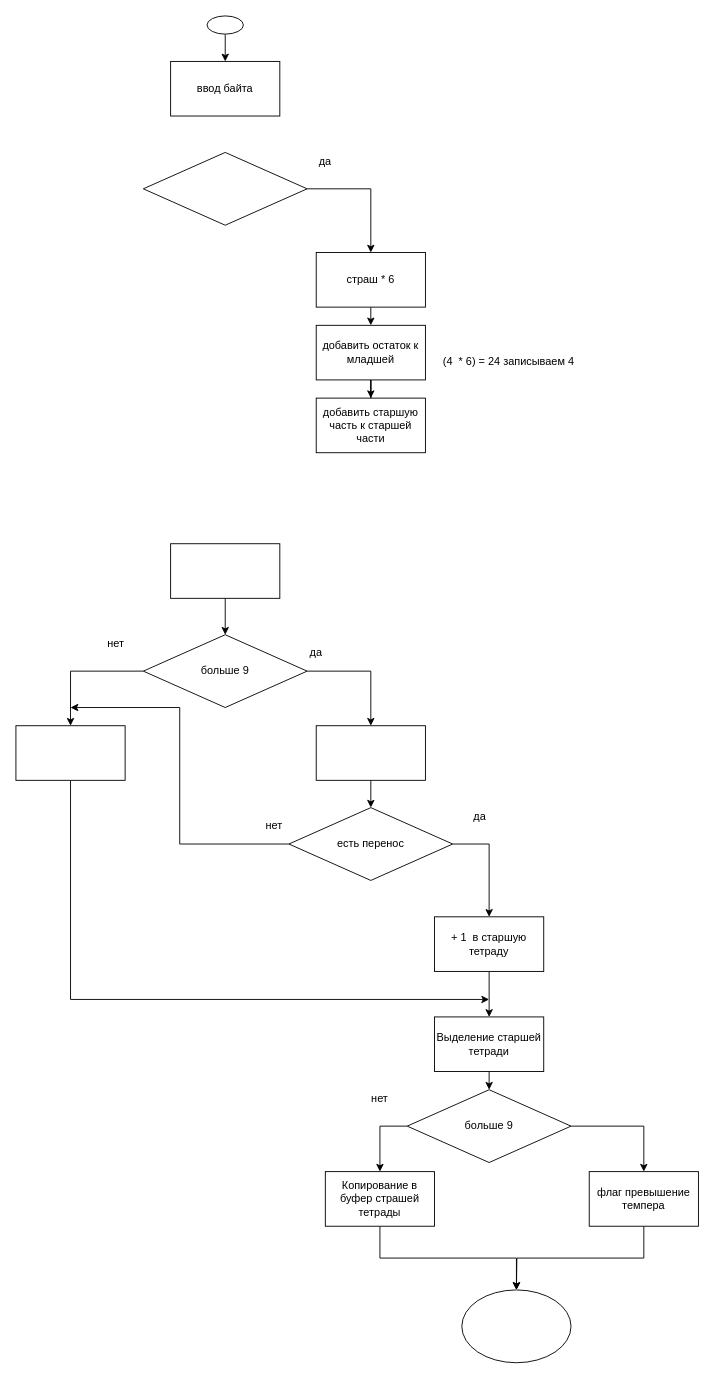
Some shapes in this 714 by 1379 pixel diagram are drawn without their labels. The centre of each missing label's shape, as x and y in pixels:
"begin" goes at (224,24).
"Выделение малшей тетрады" goes at (225,570).
"конец" goes at (516,1326).
"копирование в буфер младшей цифры" goes at (70,752).
"младш = 0 старш != 0" goes at (224,188).
"младшая тетрада + 6" goes at (370,752).
